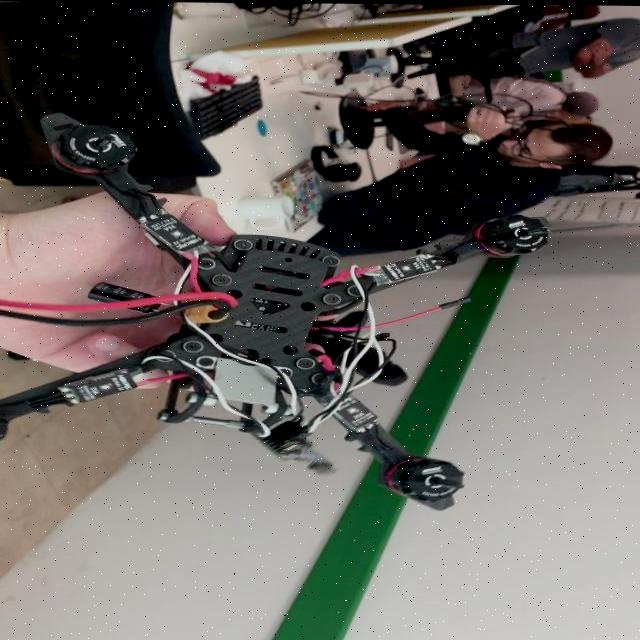drone: (0, 84, 558, 539)
